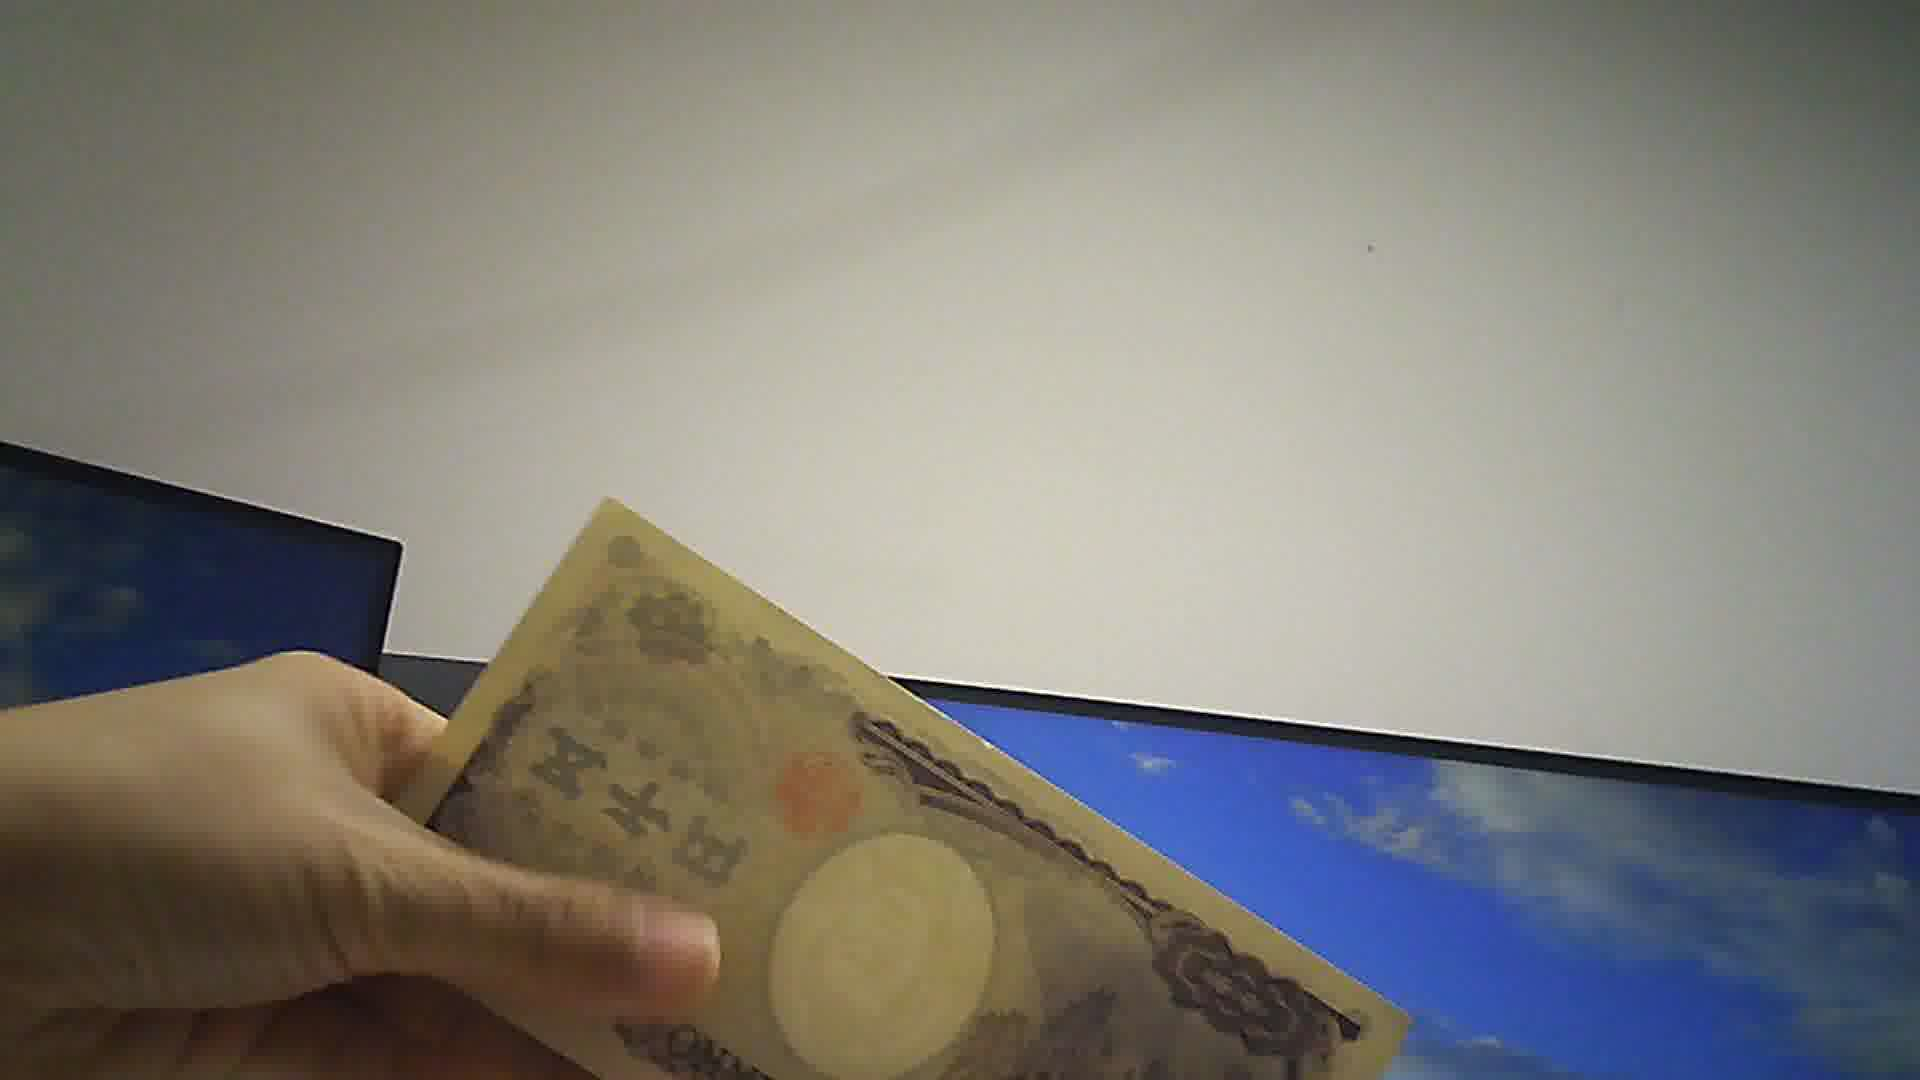5,000 Yen: (369, 508, 1396, 1079)
